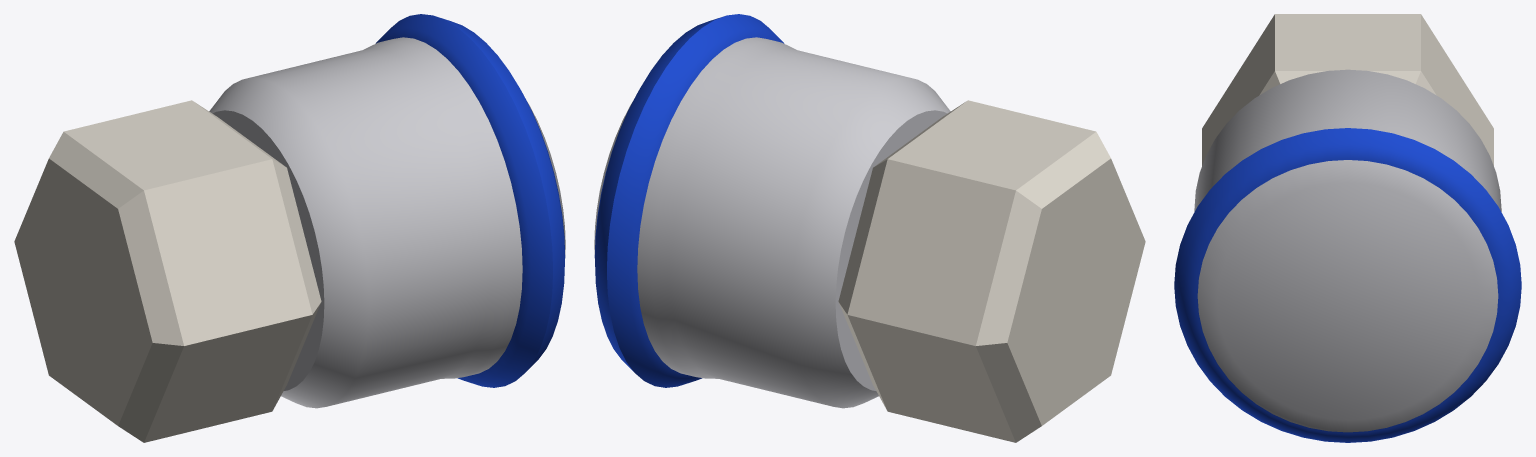
Rendered from fitting_adp_28x34_F.glb.
3 views of the same model, side by side, from view 1: azimuth 30°, elevation 25°; view 2: azimuth 150°, elevation 25°; view 3: azimuth 270°, elevation 25° (orthographic). The views are drawn at different scales.
Visible parts, largest first — view 1: шестигранник переходника, раструб, кольцо пресс; view 2: шестигранник переходника, раструб, кольцо пресс; view 3: раструб, кольцо пресс, шестигранник переходника.
Part boxes in pixels (<box>): шестигранник переходника: <box>14,100,321,442</box>; раструб: <box>209,37,565,408</box>; кольцо пресс: <box>375,14,565,387</box>; шестигранник переходника: <box>838,100,1145,442</box>; раструб: <box>594,37,950,408</box>; кольцо пресс: <box>594,14,784,387</box>; раструб: <box>1194,69,1501,432</box>; кольцо пресс: <box>1174,128,1521,442</box>; шестигранник переходника: <box>1202,14,1493,165</box>.
Bounding box in the file's own units: 0.051 × 0.0412 × 0.0412.
